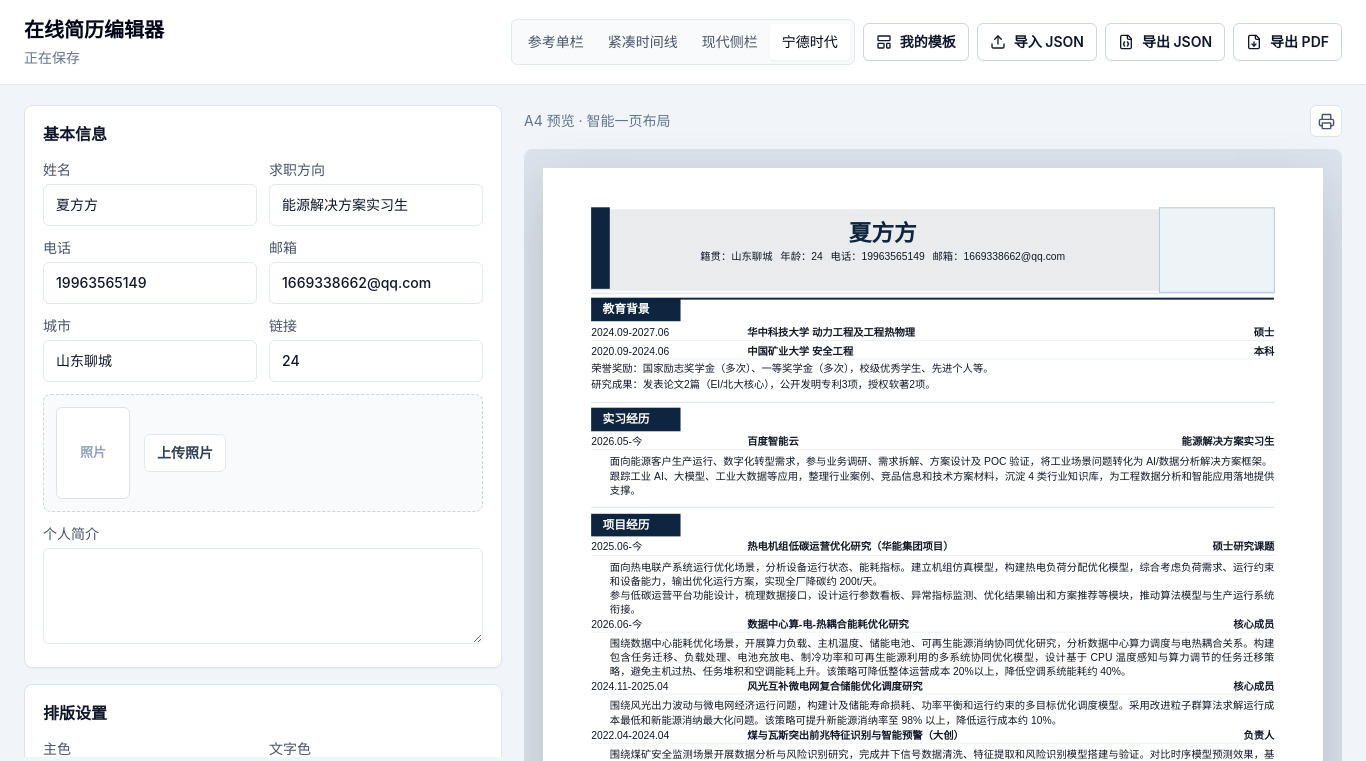
Scenario: resume builder app › updates the preview when profile fields change
The image size is (1366, 761).
Replace the text in the field labelled "姓名" with "王小明" at (150, 205), box [43,184,257,226]
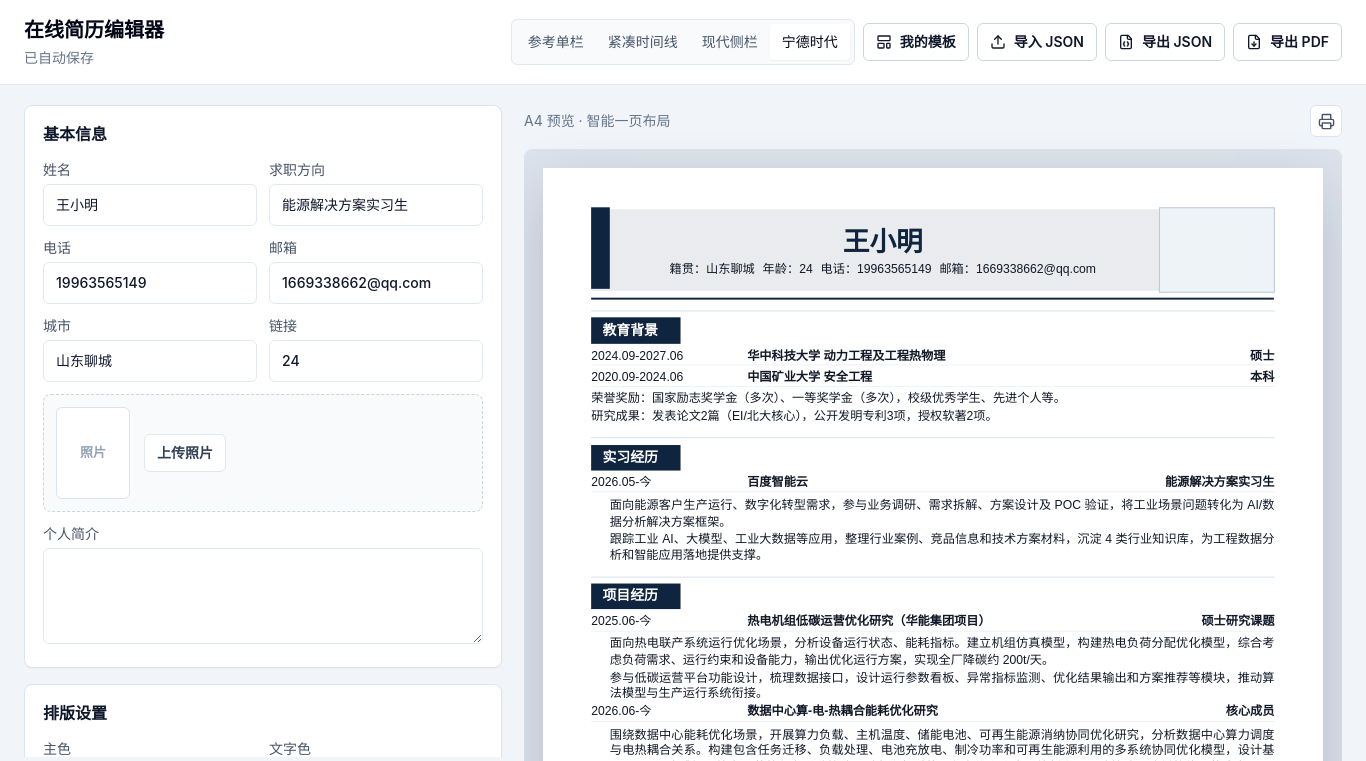
Expected: the text "王小明" is shown, [843,226,923,257]
